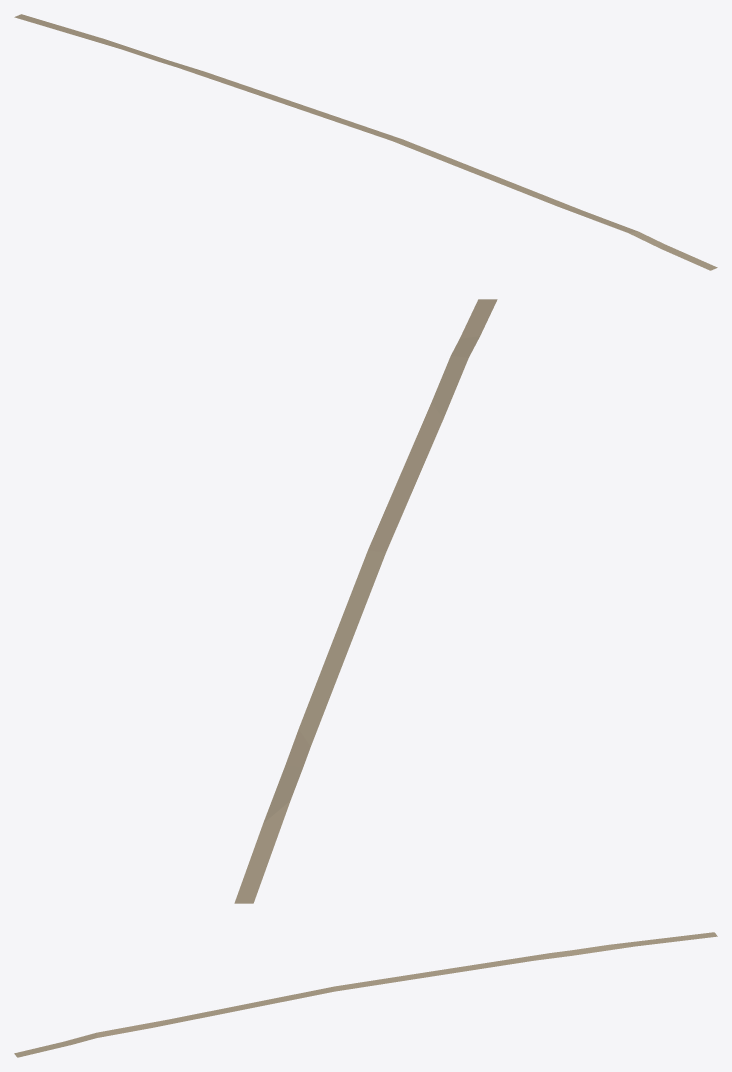
File: farm_-4_13_track.glb
The picture shows the model from 3 angles, top to bottom: view 1: azimuth 30°, elevation 25°; view 2: azimuth 150°, elevation 25°; view 3: azimuth 270°, elevation 25°; orthographic projection. The views are drawn at different scales.
Parts seen in each view (by area): view 1: geometry_0; view 2: geometry_0; view 3: geometry_0.
Part boxes in pixels (x1=…): geometry_0: x1=14, y1=14, x2=717, y2=270; geometry_0: x1=234, y1=299, x2=497, y2=903; geometry_0: x1=14, y1=932, x2=717, y2=1057.
Size of the model in its own units: 91.8 by 6.15 by 237.
